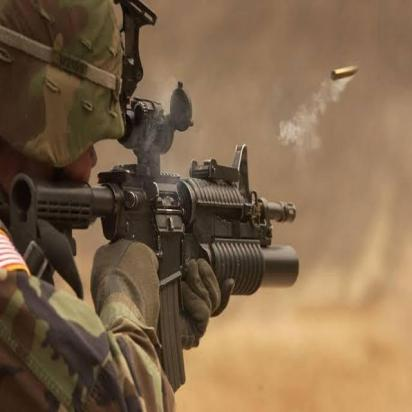Gun: (7, 78, 302, 400)
